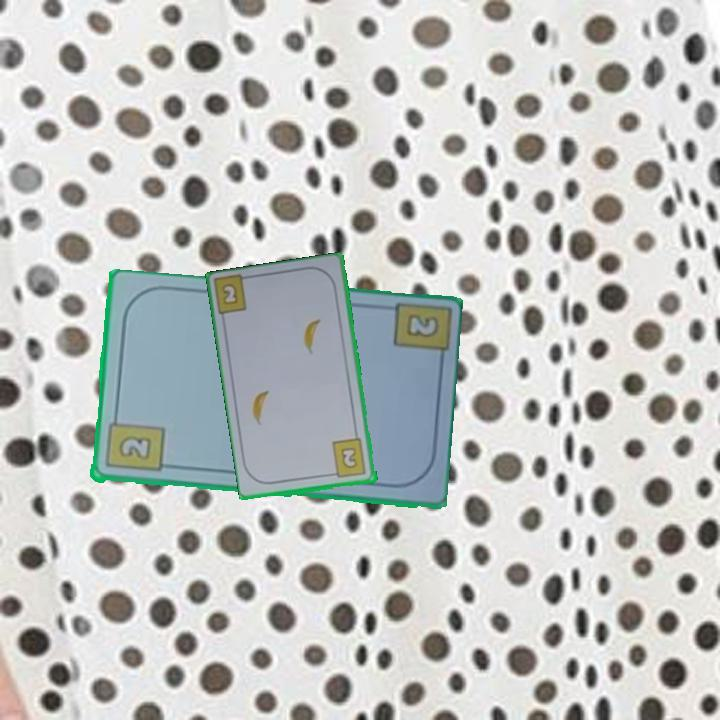2b: (102, 410, 166, 476), (327, 435, 369, 481), (402, 310, 442, 341), (218, 280, 241, 308)
